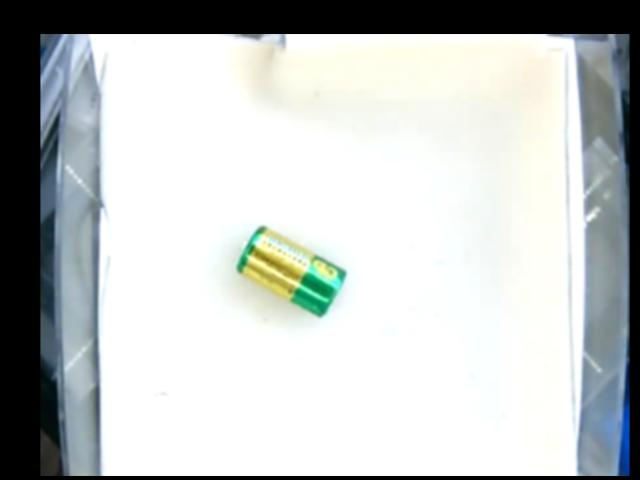Battery: (236, 224, 346, 315)
